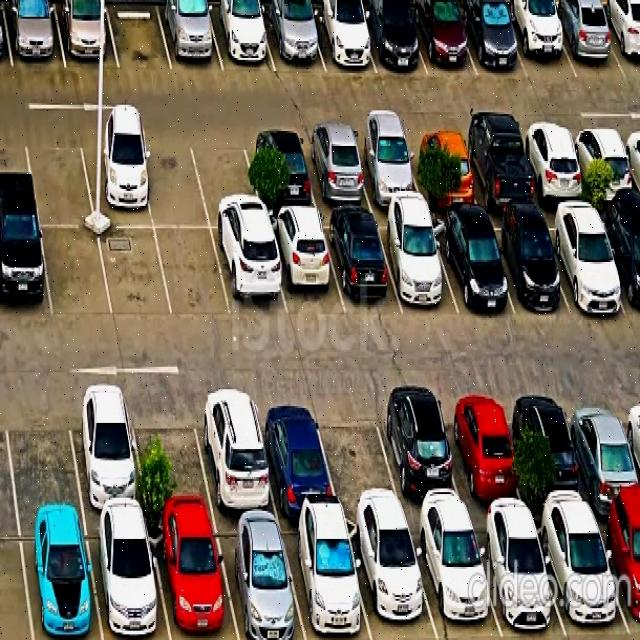empty: (314, 394, 404, 516), (128, 391, 214, 517), (2, 390, 83, 517), (189, 131, 264, 229), (137, 133, 210, 228), (155, 229, 231, 318), (99, 228, 172, 320), (24, 131, 95, 225), (41, 227, 112, 318), (106, 1, 172, 70)
occupied: (533, 514, 630, 640), (373, 392, 469, 517), (471, 517, 567, 639), (408, 518, 502, 640), (345, 518, 438, 640), (213, 519, 306, 640), (438, 391, 528, 516), (280, 518, 371, 640), (192, 389, 278, 516), (148, 519, 238, 640), (253, 392, 339, 515), (65, 389, 148, 515), (511, 389, 594, 515), (85, 517, 170, 640), (19, 518, 101, 640), (563, 390, 640, 513), (541, 210, 628, 312), (482, 216, 569, 314), (429, 217, 515, 316), (375, 215, 459, 315), (266, 215, 345, 318), (321, 214, 402, 314), (78, 132, 154, 227), (212, 231, 287, 317), (459, 130, 537, 209), (243, 132, 318, 211), (594, 511, 640, 638), (405, 131, 480, 207), (299, 132, 373, 209), (548, 5, 626, 78), (502, 5, 577, 80), (350, 131, 424, 207), (518, 128, 590, 204), (568, 127, 639, 202), (457, 3, 528, 77), (0, 222, 52, 319), (409, 2, 477, 76), (357, 5, 427, 75), (596, 209, 640, 317), (207, 3, 276, 71), (157, 2, 223, 72), (308, 7, 376, 73), (54, 2, 119, 68), (3, 2, 66, 68), (261, 7, 325, 71), (598, 7, 640, 78)
